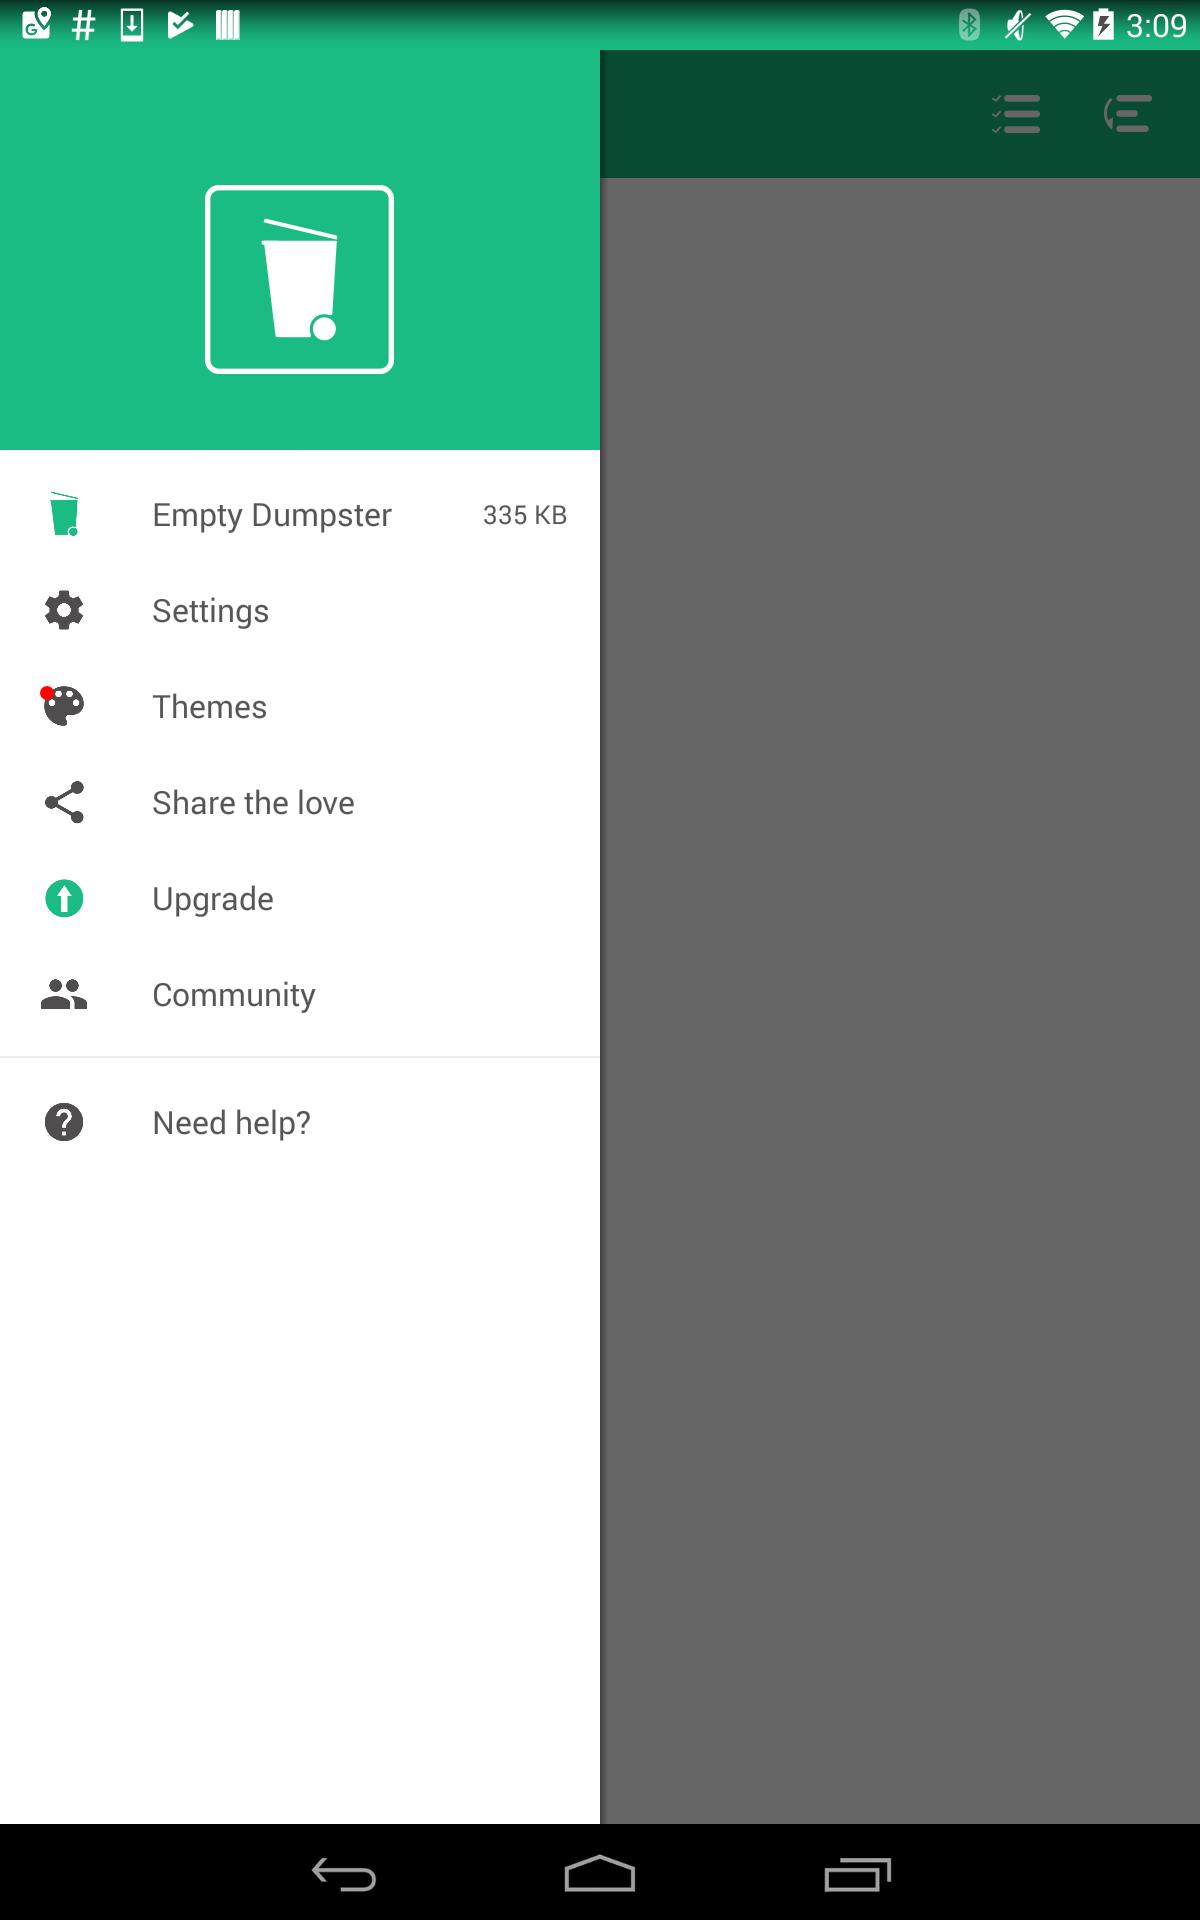android.support.v4.widget.DrawerLayout: (0, 50, 1200, 1825)
android.support.v7.widget.LinearLayoutCompat: (959, 50, 1183, 178)
android.view.View: (0, 50, 1200, 178), (0, 1056, 600, 1057), (40, 686, 54, 699)
android.widget.FrameLayout: (0, 0, 1200, 1825), (0, 178, 1200, 1825), (0, 50, 600, 1825), (0, 451, 600, 1825), (32, 677, 152, 734)
android.widget.ImageButton: (17, 50, 129, 178)
android.widget.ImageView: (0, 50, 1200, 1825), (205, 184, 395, 376), (36, 582, 93, 639), (36, 677, 93, 734), (36, 869, 93, 926), (36, 1093, 93, 1150), (36, 487, 93, 542), (36, 774, 93, 829), (36, 966, 93, 1022), (348, 112, 368, 131)
android.widget.LinearLayout: (0, 0, 1200, 1825), (0, 50, 1200, 1825), (0, 178, 1200, 1825), (0, 50, 600, 1825), (0, 451, 600, 1825), (0, 50, 600, 451), (0, 50, 1200, 178), (0, 466, 600, 563), (0, 753, 600, 850), (0, 945, 600, 1042), (0, 563, 600, 658), (0, 658, 600, 753), (0, 850, 600, 945), (0, 1074, 600, 1169), (160, 50, 388, 178), (160, 75, 328, 152), (328, 50, 388, 178)
android.widget.ScrollView: (0, 451, 600, 1825)
android.widget.TextView: (959, 66, 1071, 162), (1071, 66, 1183, 162), (152, 492, 393, 535), (160, 75, 328, 127), (152, 780, 357, 822), (152, 972, 317, 1015), (152, 1100, 311, 1143), (393, 496, 568, 532), (152, 876, 274, 919), (152, 587, 270, 630), (152, 684, 268, 727), (160, 127, 239, 152)
